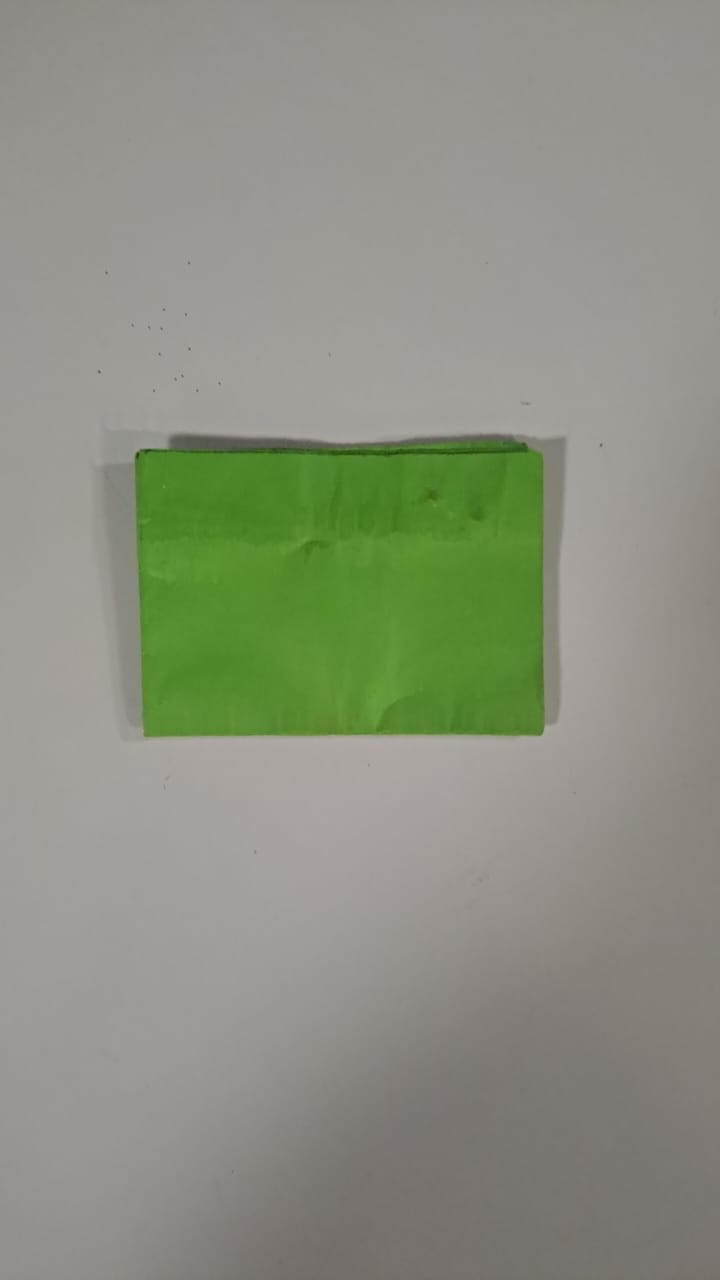Target: (136, 449, 546, 736)
